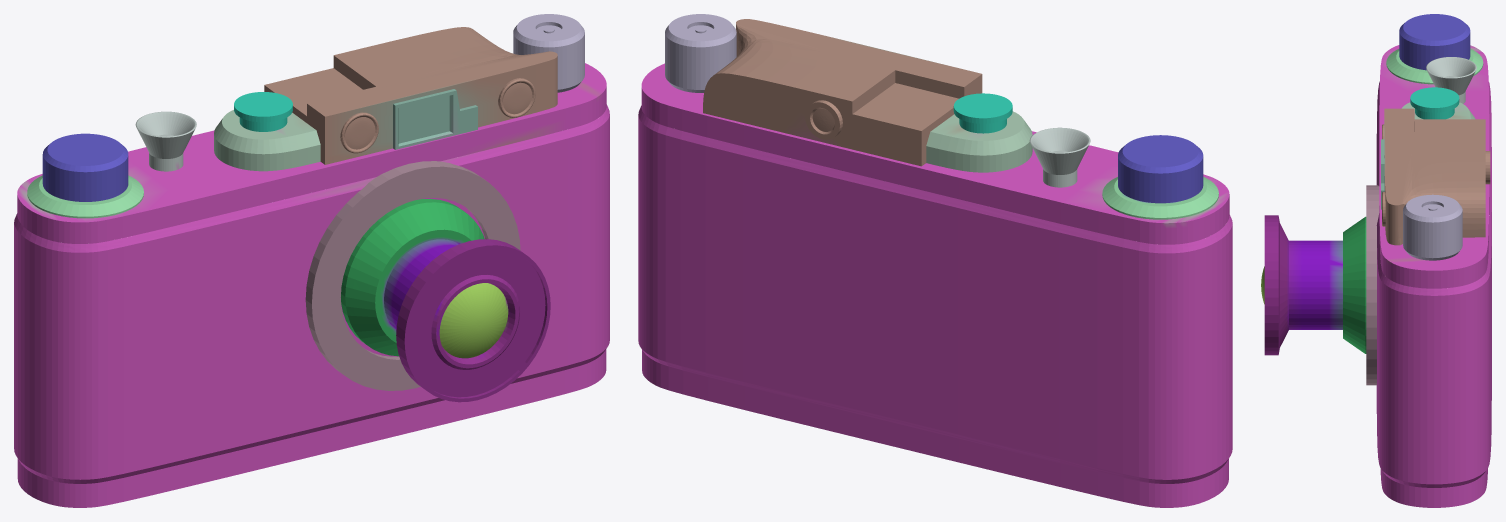
3 views of the same model, side by side, from view 1: azimuth 30°, elevation 25°; view 2: azimuth 150°, elevation 25°; view 3: azimuth 270°, elevation 25° (orthographic). The views are drawn at different scales.
Parts seen in each view (by area): view 1: world; view 2: world; view 3: world.
Part boxes in pixels (left/top/right/bottom): world: left=14, top=14, right=609, bottom=507; world: left=638, top=14, right=1232, bottom=507; world: left=1261, top=14, right=1491, bottom=507.
Bounding box in the file's own units: 1 × 0.5657 × 0.4191.
